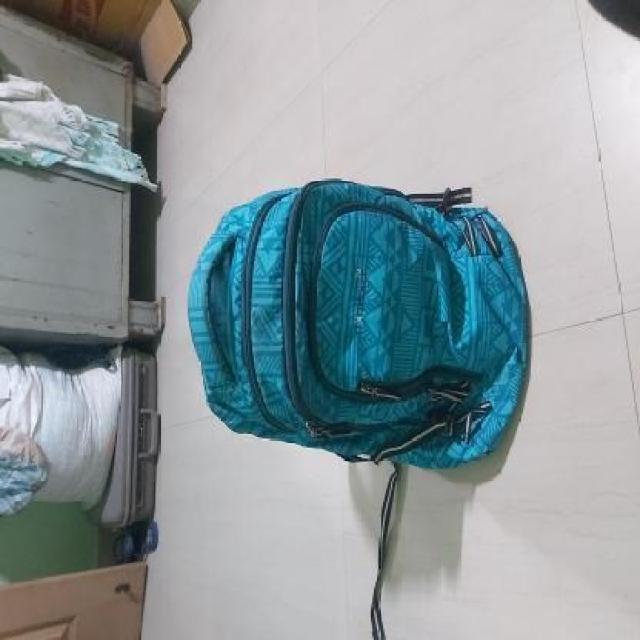backpack: (183, 172, 537, 477)
